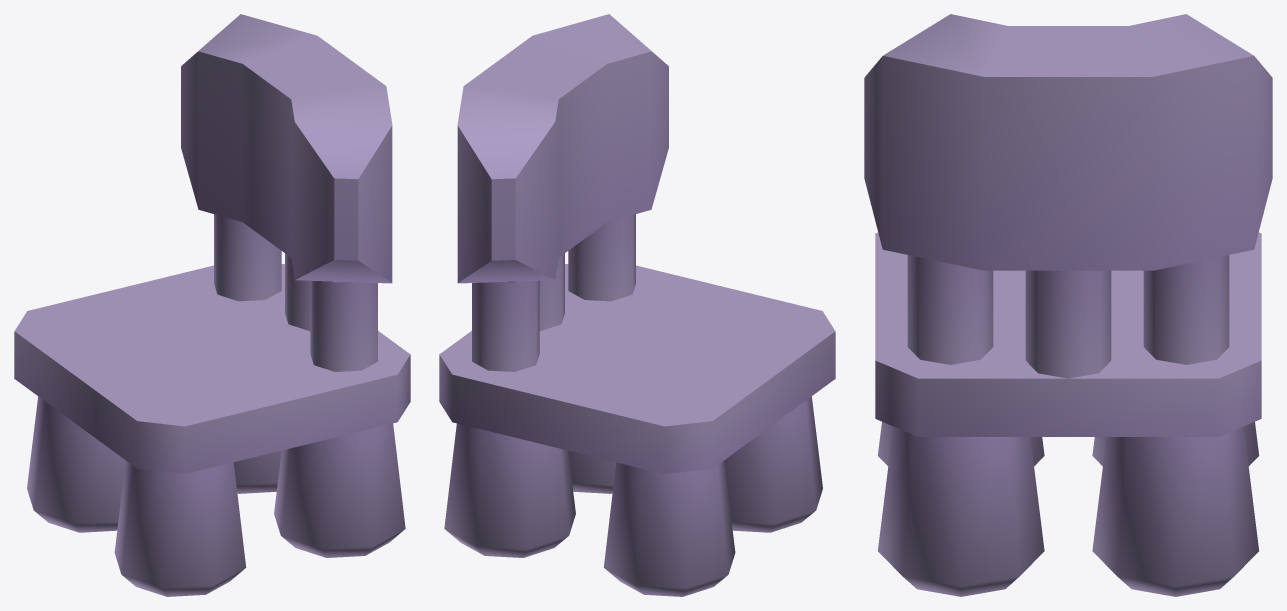
File: chair-kids (%secret).glb
The picture shows the model from 3 angles, left to right: view 1: azimuth 30°, elevation 25°; view 2: azimuth 150°, elevation 25°; view 3: azimuth 270°, elevation 25°; orthographic projection. The views are drawn at different scales.
Visible parts, largest first — view 1: chair-kids (%secret); view 2: chair-kids (%secret); view 3: chair-kids (%secret).
Part boxes in pixels (bbox=[...]): chair-kids (%secret): bbox=[14, 14, 410, 596]; chair-kids (%secret): bbox=[439, 14, 835, 596]; chair-kids (%secret): bbox=[864, 14, 1272, 596].
Bounding box in the file's own units: 0.3677 × 0.542 × 0.3808.
